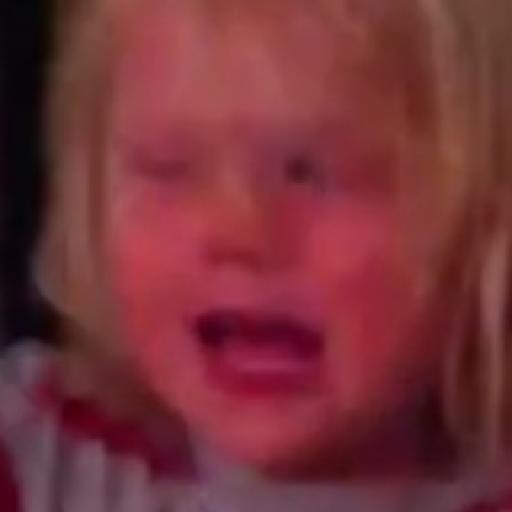Autism: (80, 41, 512, 505)
